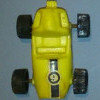amarillo_sur: (16, 1, 87, 96)
